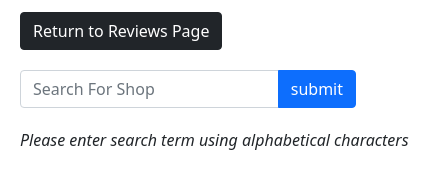
Test: Search › displays fallback while results are loaded and results after loading
Type "shop" into the field with placeholder "Search For Shop". click: (149, 89)
box: x1=20 y1=70 x2=279 y2=108
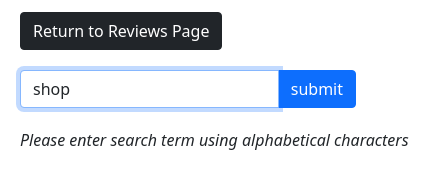
Click the button with test id "submit". click: (317, 89)
box: x1=278 y1=70 x2=356 y2=108
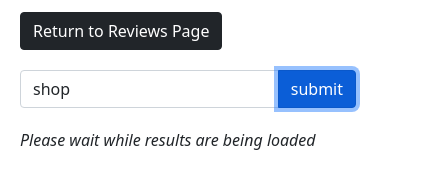
Expected: the text "Please wait while results are being loaded" is shown, x1=20 y1=129 x2=316 y2=151
